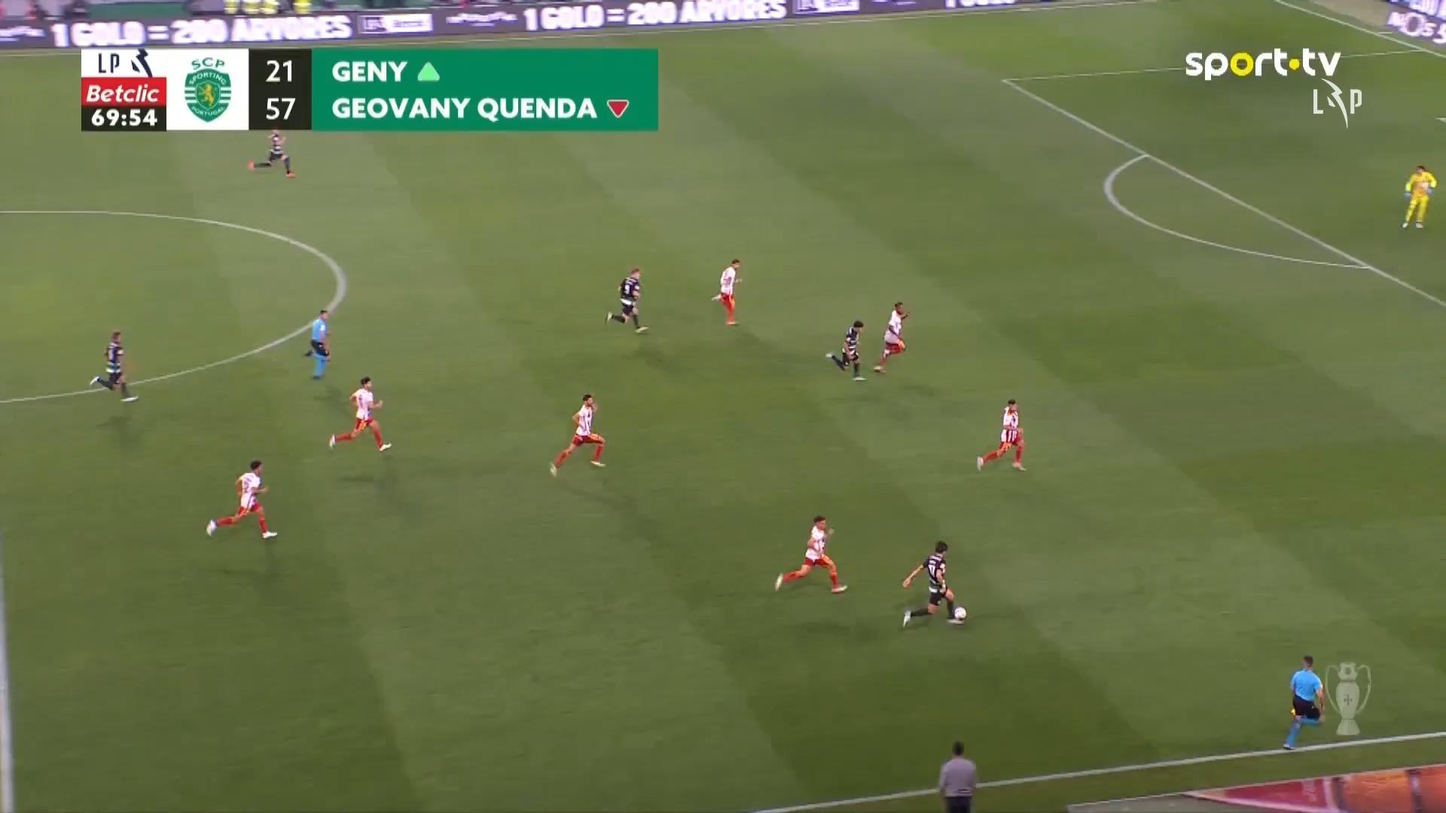ball: (954, 607, 966, 620)
goalkeeper: (1400, 163, 1436, 229)
player: (205, 458, 278, 540), (773, 514, 848, 593), (901, 540, 965, 628), (547, 393, 607, 477), (328, 375, 392, 452), (975, 398, 1027, 471), (88, 330, 139, 402), (605, 267, 649, 334), (872, 300, 909, 373), (825, 319, 868, 381), (247, 129, 294, 178), (710, 257, 743, 325)
referee: (1282, 653, 1326, 749), (303, 309, 331, 379)
